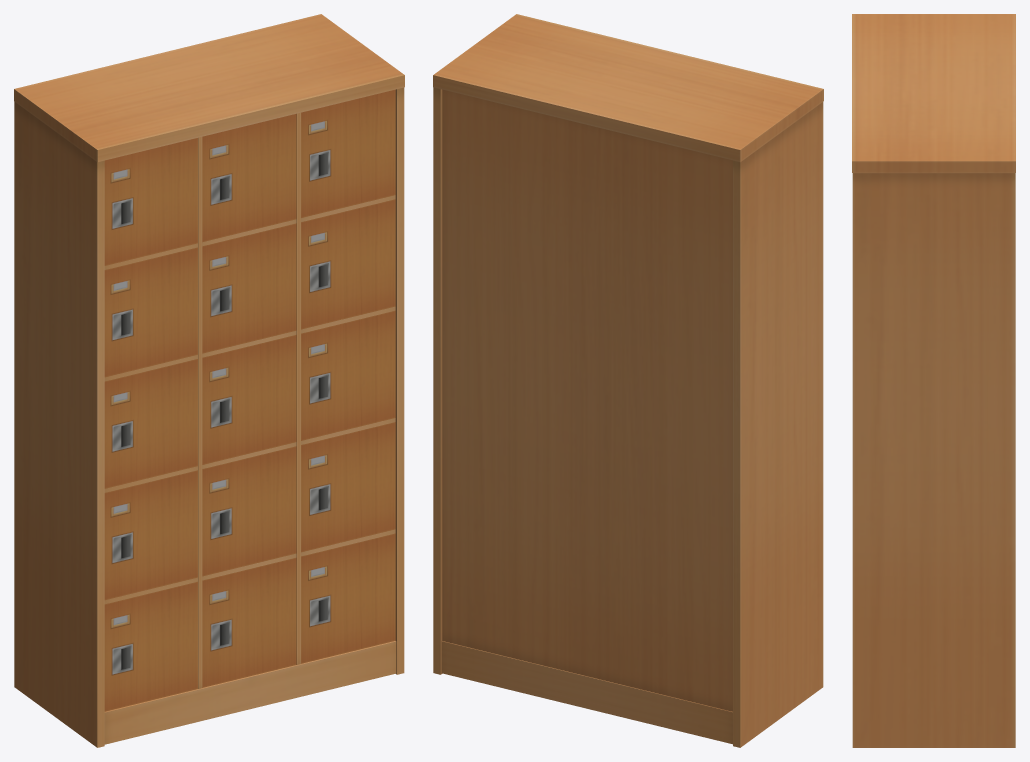
File: set_shoecupboard_b_11.fbx
The picture shows the model from 3 angles, left to right: view 1: azimuth 30°, elevation 25°; view 2: azimuth 150°, elevation 25°; view 3: azimuth 270°, elevation 25°; orthographic projection.
Visible parts, largest first — view 1: shoecupboard_b_11, door_b_11_07, door_b_11_13, door_b_11_10, door_b_11_12, door_b_11_14, door_b_11_09, door_b_11_15, door_b_11_08, door_b_11_04, door_b_11_05, door_b_11_02 (+4 smaller); view 2: shoecupboard_b_11; view 3: shoecupboard_b_11.
Part boxes in pixels (x1,y1,x2,y2): shoecupboard_b_11: [14, 14, 404, 747]; door_b_11_07: [202, 223, 296, 353]; door_b_11_13: [301, 310, 395, 440]; door_b_11_10: [202, 557, 296, 687]; door_b_11_12: [301, 199, 395, 329]; door_b_11_14: [301, 422, 395, 552]; door_b_11_09: [202, 446, 296, 576]; door_b_11_15: [301, 533, 395, 663]; door_b_11_08: [202, 335, 296, 464]; door_b_11_04: [104, 470, 197, 600]; door_b_11_05: [104, 581, 197, 711]; door_b_11_02: [104, 247, 197, 377]; shoecupboard_b_11: [433, 14, 823, 747]; shoecupboard_b_11: [852, 14, 1015, 747].
Size of the model in its own units: 79.39 by 148 by 37.38.
